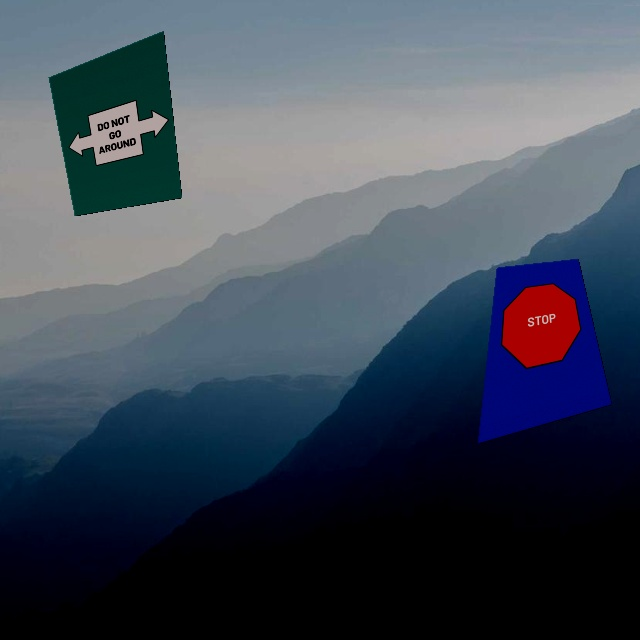DO_NOT_GO_AROUND: (63, 90, 176, 175)
STOP: (491, 273, 589, 384)
